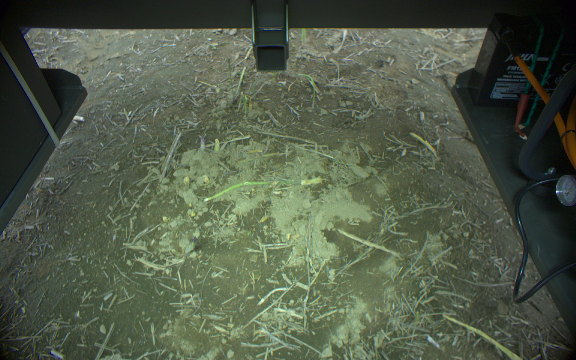aspa: (203, 176, 298, 201), (226, 58, 234, 102), (301, 28, 308, 48)
